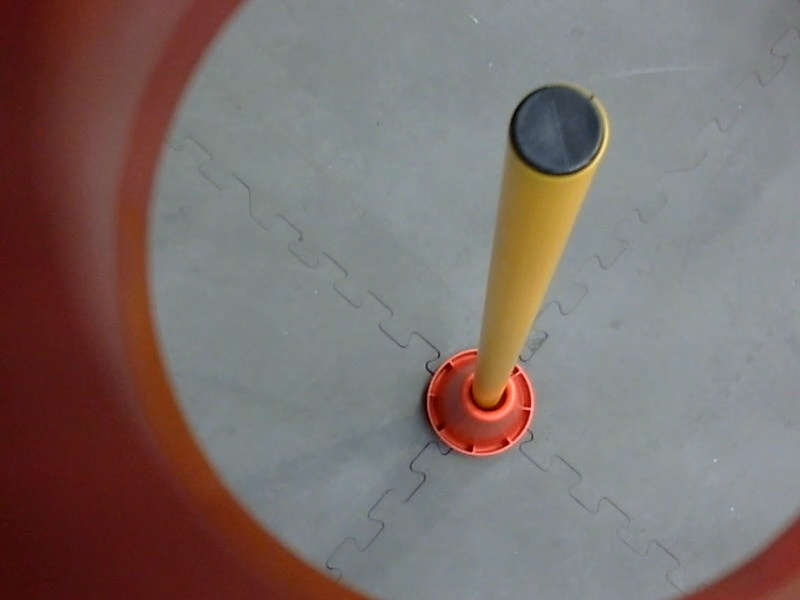tip: (501, 79, 615, 184)
